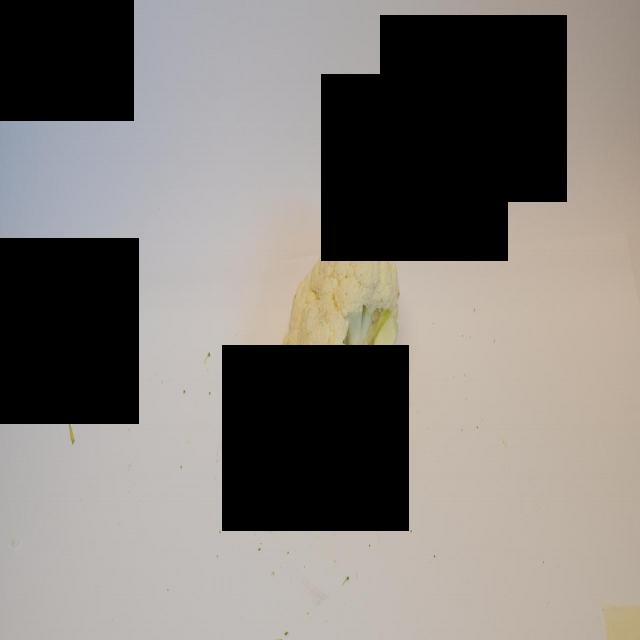cauliflower: (272, 225, 400, 463)
